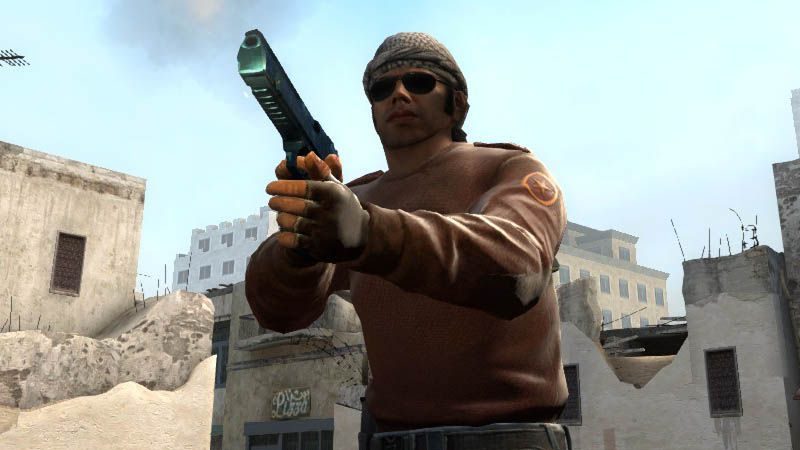t: (240, 27, 569, 450)
th: (359, 27, 471, 165)
